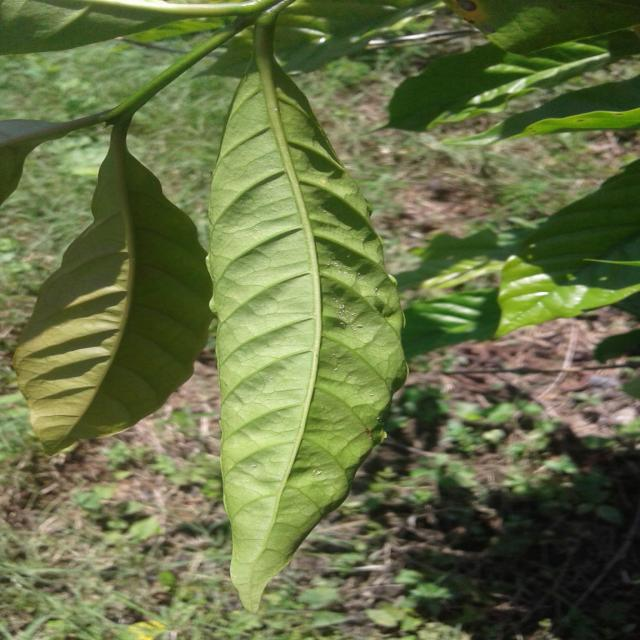Sanas: (206, 0, 406, 616)
